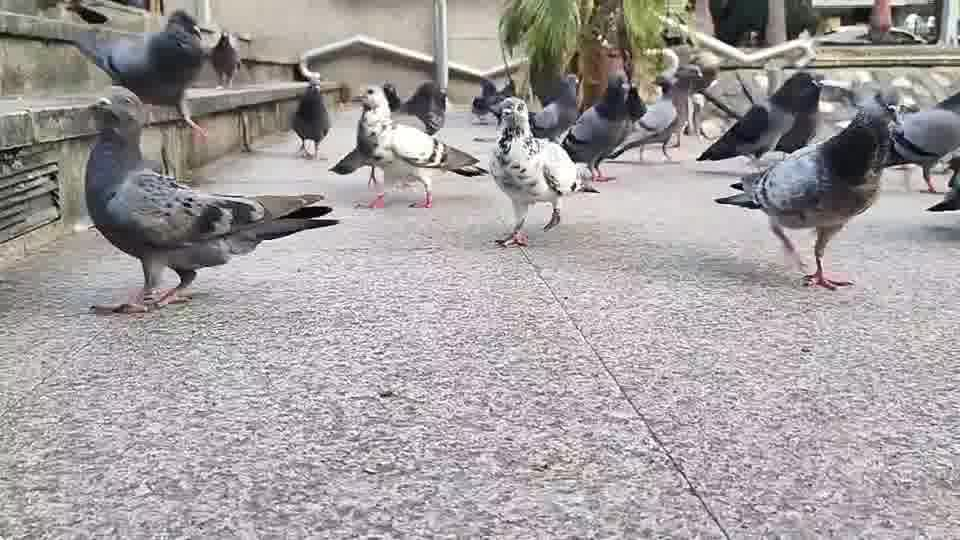Pigeon: (81, 88, 341, 314), (713, 95, 899, 291), (1, 4, 217, 136), (328, 83, 488, 209), (486, 95, 599, 248), (695, 70, 823, 163), (558, 72, 646, 182), (879, 90, 959, 193), (290, 73, 331, 160), (208, 30, 242, 90), (62, 0, 111, 25)
